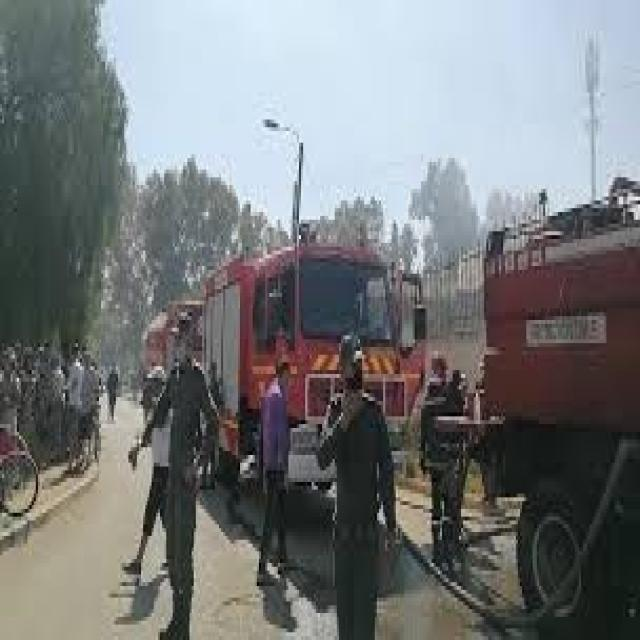emergency: (181, 236, 411, 488)
